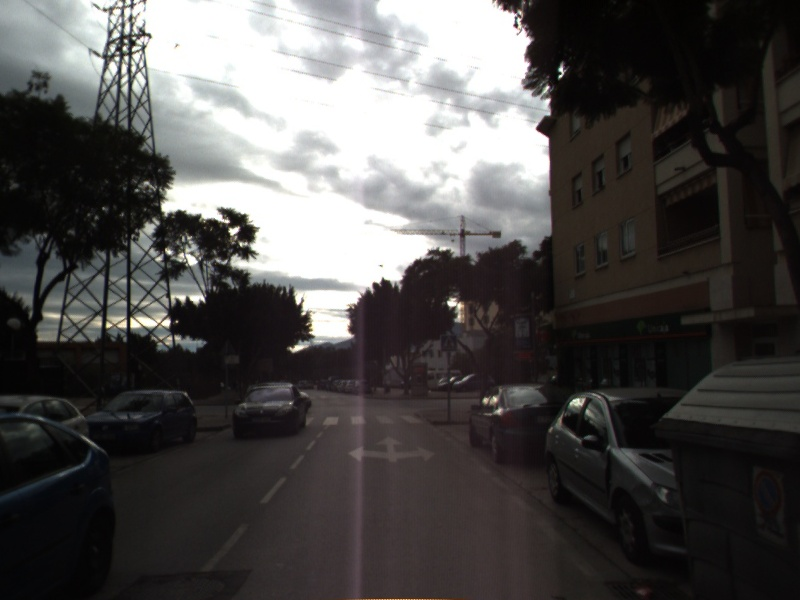STRAIGHT_LEFT_RIGHT: (346, 433, 439, 464)
